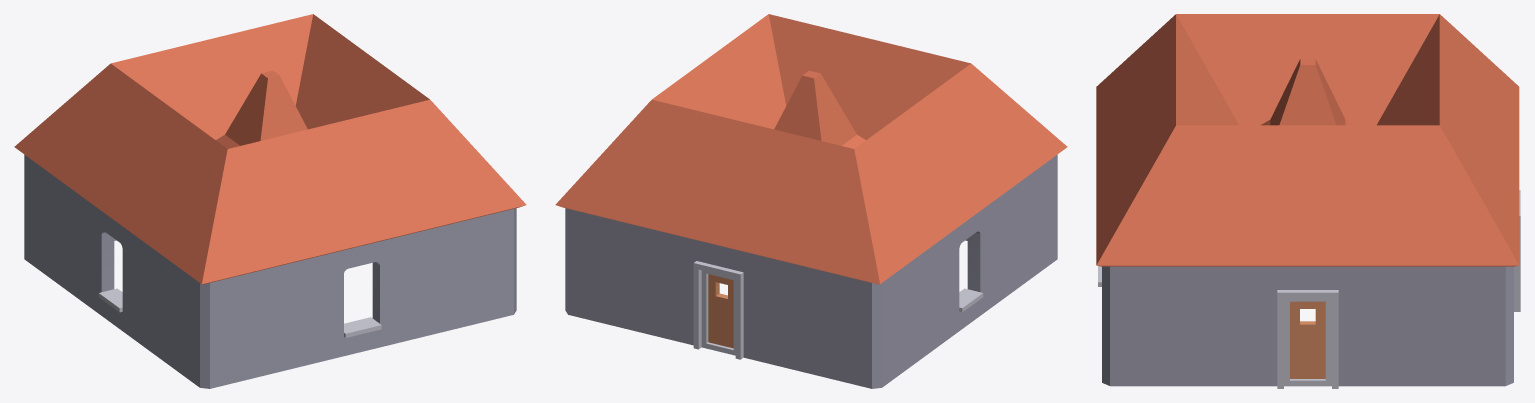
The model's file is House02.obj.
3 renders of one model, left to right at view 1: azimuth 30°, elevation 25°; view 2: azimuth 150°, elevation 25°; view 3: azimuth 270°, elevation 25°, orthographic. The views are drawn at different scales.
Parts seen in each view (by area): view 1: roof_corner_113, wall_corner_101, roof_straight_115, wall_corner_100, roof_corner_114, roof_straight_116, wall_windowSquare_106, roof_corner_112, roof_straight_117, wall_corner_102, wall_windowSquare_107, roof_straight_118 (+2 smaller); view 2: roof_corner_112, wall_corner_102, roof_straight_117, roof_corner_111, wall_corner_103, roof_corner_113, roof_straight_116, wall_doorwaySquare_104, roof_straight_115, wall_corner_101, wall_windowSquare_107, roof_straight_118 (+3 smaller); view 3: roof_corner_111, roof_corner_114, roof_straight_118, wall_corner_100, wall_corner_103, roof_straight_116, wall_doorwaySquare_105, roof_corner_113, roof_corner_112, roof_straight_117, roof_straight_115, door_square_109 (+2 smaller).
Part boxes in pixels (box(x1,y1,x2,y2)): roof_corner_113: box(134, 126, 319, 284); wall_corner_101: box(141, 240, 311, 388); roof_straight_115: box(284, 110, 421, 257); wall_corner_100: box(412, 208, 516, 339); roof_corner_114: box(380, 81, 526, 234); roof_straight_116: box(82, 82, 201, 238); wall_windowSquare_106: box(311, 233, 412, 363); roof_corner_112: box(14, 49, 170, 196); roof_straight_117: box(156, 25, 288, 139); wall_corner_102: box(24, 154, 116, 301); wall_windowSquare_107: box(83, 197, 141, 344); roof_straight_118: box(297, 38, 404, 129); roof_corner_112: box(762, 130, 948, 284); wall_corner_102: box(770, 240, 940, 388); roof_straight_117: box(661, 113, 809, 256); roof_corner_111: box(555, 81, 708, 234); wall_corner_103: box(565, 208, 669, 339); roof_corner_113: box(911, 52, 1067, 196); roof_straight_116: box(880, 87, 1001, 233); wall_doorwaySquare_104: box(669, 233, 770, 363); roof_straight_115: box(793, 28, 926, 139); wall_corner_101: box(965, 154, 1057, 301); wall_windowSquare_107: box(940, 197, 998, 344); roof_straight_118: box(677, 33, 784, 129); roof_corner_111: box(1365, 94, 1519, 266); roof_corner_114: box(1096, 94, 1250, 266); roof_straight_118: box(1233, 125, 1381, 266); wall_corner_100: box(1102, 266, 1241, 386); wall_corner_103: box(1374, 266, 1513, 386); roof_straight_116: box(1233, 14, 1381, 125); wall_doorwaySquare_105: box(1242, 266, 1373, 388); roof_corner_113: box(1096, 14, 1250, 144); roof_corner_112: box(1365, 14, 1519, 144); roof_straight_117: box(1377, 38, 1519, 199); roof_straight_115: box(1096, 39, 1238, 206); door_square_109: box(1284, 298, 1331, 386).
Size of the model in its own units: 3.22 by 1.99 by 3.22.
